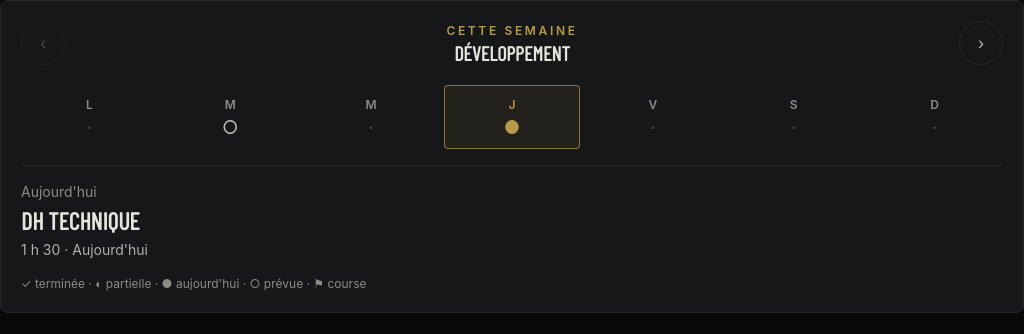
Test case: ProgramWeekTimeline › next week: 'Semaine du 26 octobre', its phase, and the way back to today's session
Click the button named "Semaine suivante". click: x=981, y=43
box: [959,21,1003,65]
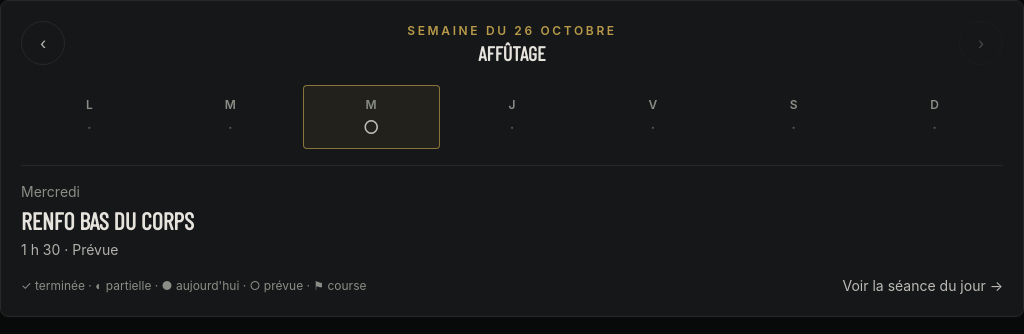
Expected: the heading "Semaine du 26 octobre" is shown, [407,23,617,39]
Expected: the text "Affûtage" is shown, [478,41,546,65]
